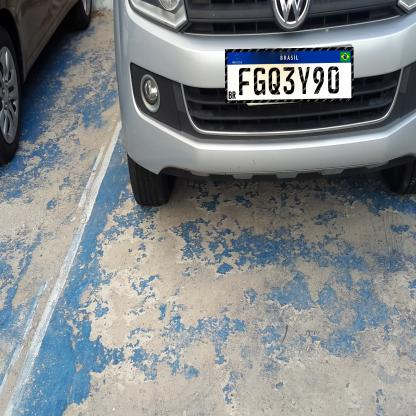PlacaM: (225, 47, 354, 103)
